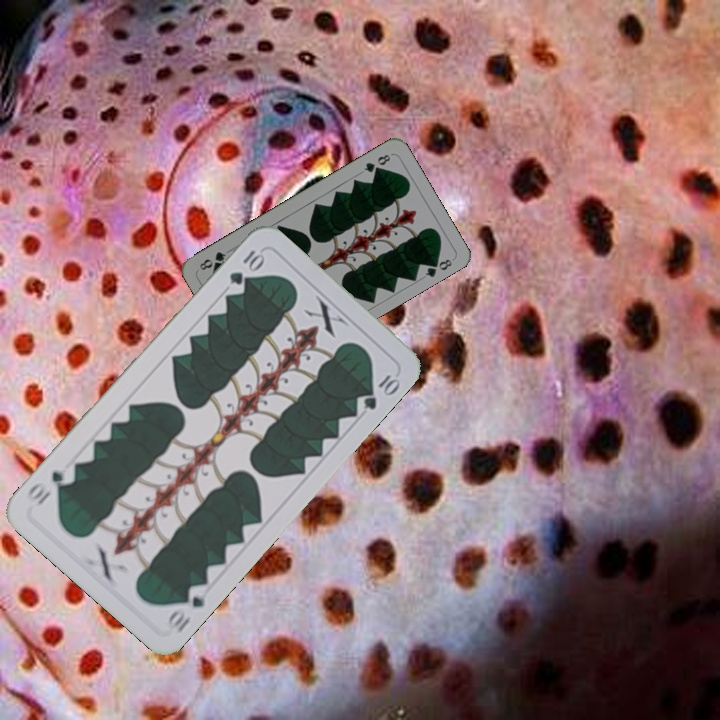G10: (161, 580, 211, 636), (225, 246, 267, 288)
G8: (360, 150, 393, 175)
